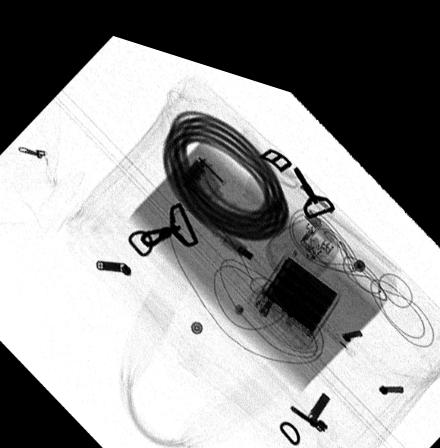Powerbank: (251, 234, 341, 324)
